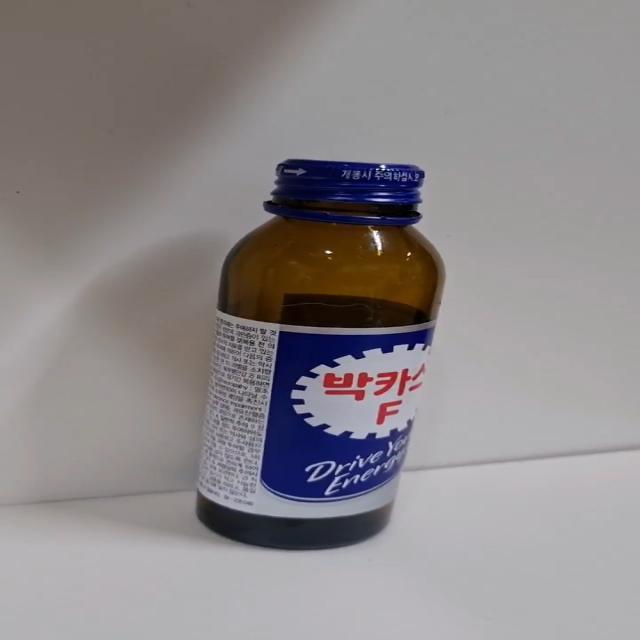Glass: (193, 159, 447, 553)
